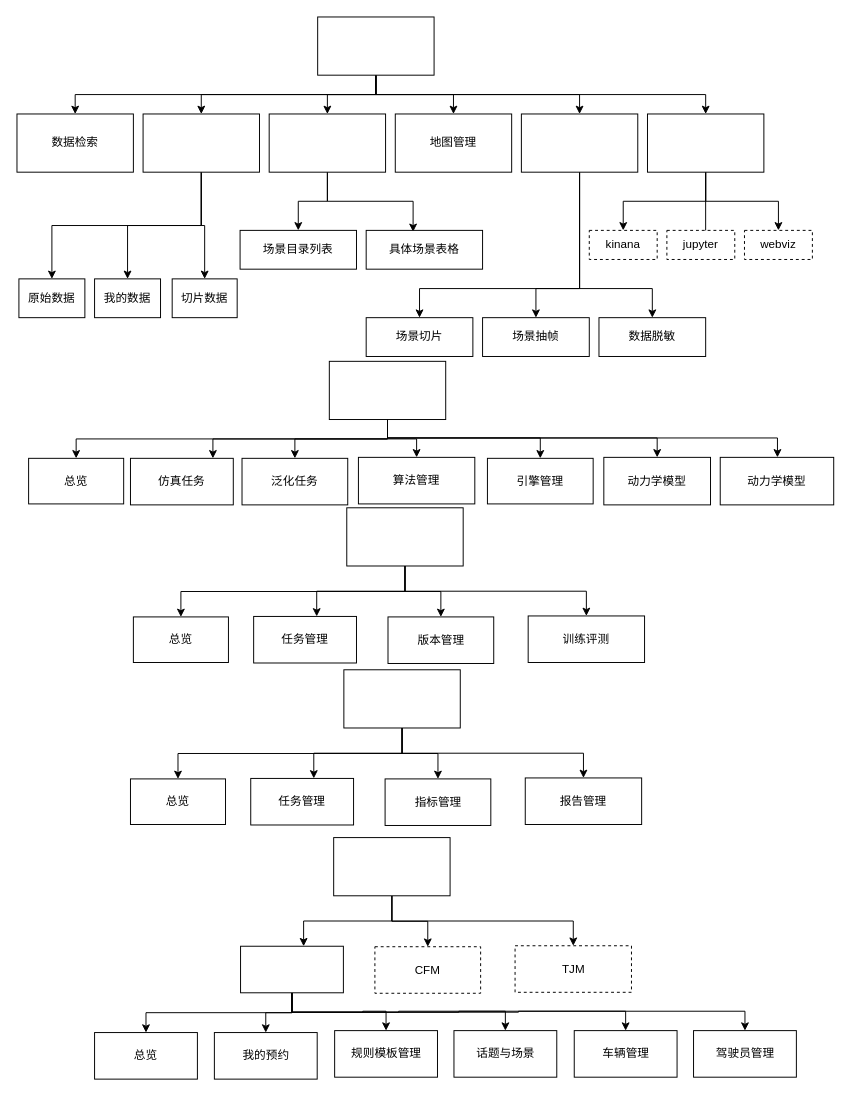
This 851x1096 diagram has some shape labels left out. Each missing label, with the centre of its shape:
"SOA数据采集" goes at pixel 291 969.
"仿真平台" goes at pixel 387 390.
"场景管理" goes at pixel 327 142.
"应用服务平台" goes at pixel 391 866.
"数据分析" goes at pixel 705 142.
"数据处理" goes at pixel 579 142.
"数据管理平台" goes at pixel 375 45.
"数据集" goes at pixel 200 142.
"测试管理平台" goes at pixel 401 698.
"训练平台" goes at pixel 404 536.
